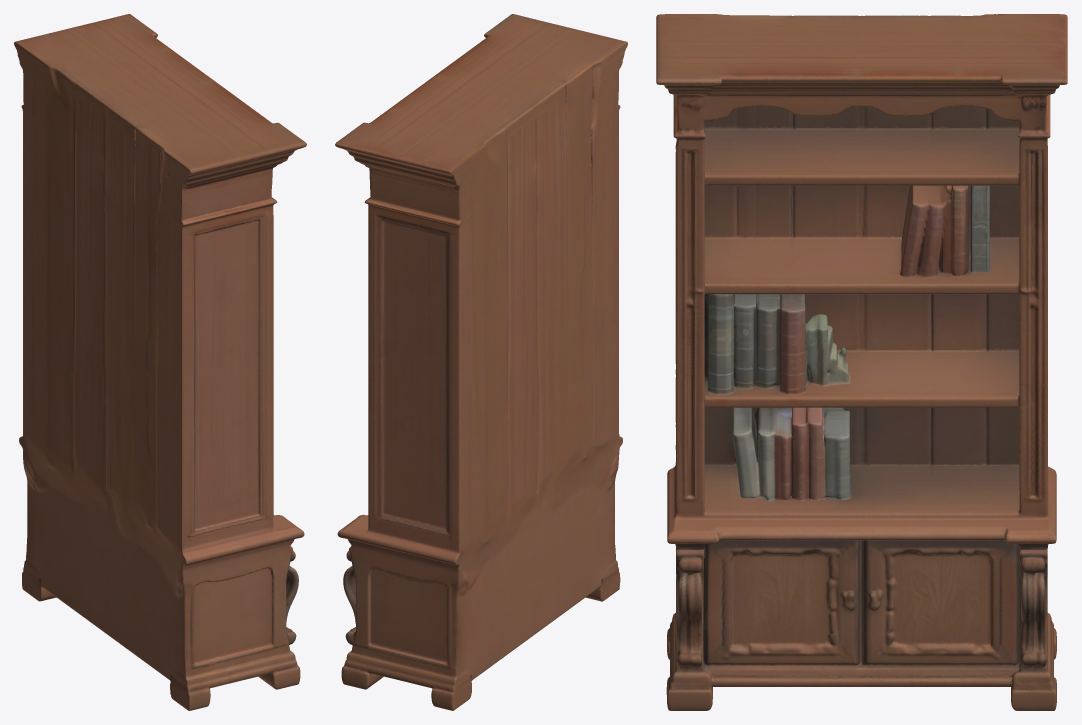
File: detailed_realistic_model_antiquebookshelf_21.glb
3 renders of one model, left to right at view 1: azimuth 30°, elevation 25°; view 2: azimuth 150°, elevation 25°; view 3: azimuth 270°, elevation 25°, orthographic. The views are drawn at different scales.
Parts seen in each view (by area): view 1: tripo_node_5a1b0957-c1e0-4663-b416-27e2196ddae4; view 2: tripo_node_5a1b0957-c1e0-4663-b416-27e2196ddae4; view 3: tripo_node_5a1b0957-c1e0-4663-b416-27e2196ddae4.
Part boxes in pixels (x1,y1,x2,y2): tripo_node_5a1b0957-c1e0-4663-b416-27e2196ddae4: (14, 14, 306, 710); tripo_node_5a1b0957-c1e0-4663-b416-27e2196ddae4: (335, 14, 627, 710); tripo_node_5a1b0957-c1e0-4663-b416-27e2196ddae4: (656, 14, 1067, 710).
Size of the model in its own units: 0.229 by 1 by 0.5884.
1 material, 1 textured.
